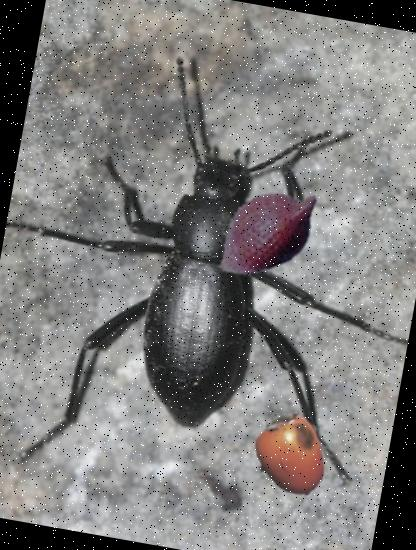Kaki: (238, 404, 339, 506)
Salak: (199, 162, 336, 299)
